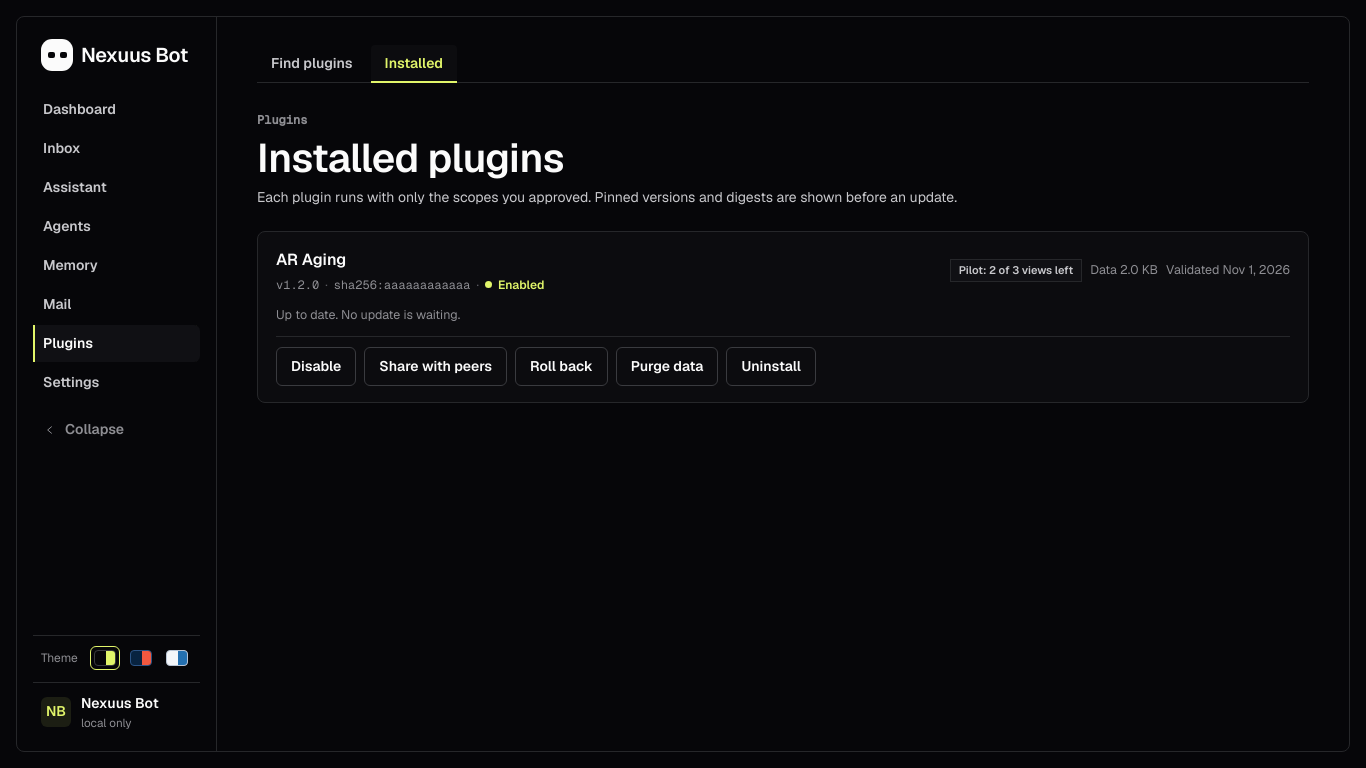
it: installed plugins › requires the typed delete-data confirmation before purging
Expected: the heading "AR Aging" is shown, [276,249,346,270]
Click the button "Purge data".
click(667, 367)  # box [616,347,718,386]
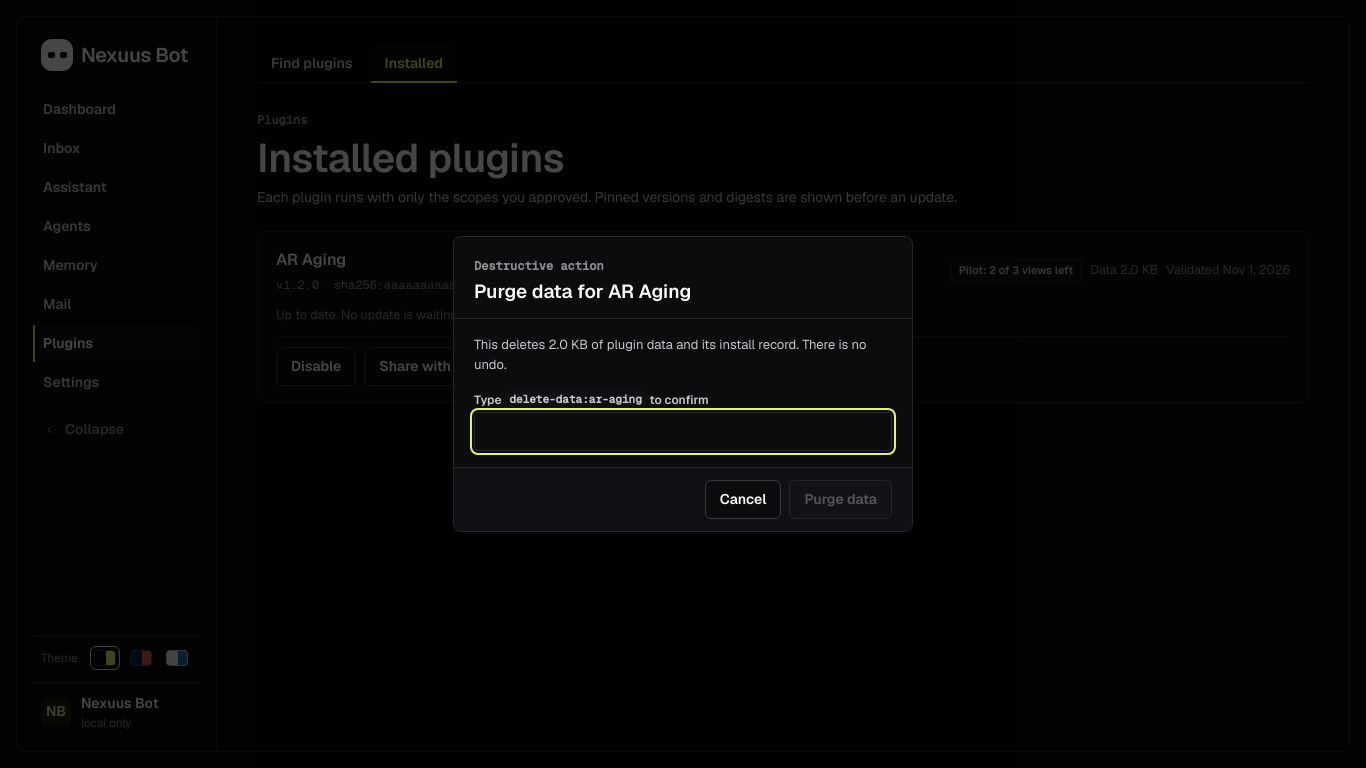
Expected: the button "Purge data" is disabled, [789,480,892,519]
Type "delete-data:ar-agin" into the field labelled "Type delete-data:ar-aging to confirm".
click(683, 432); type("delete-data:ar-agin")  # box [474,412,892,451]
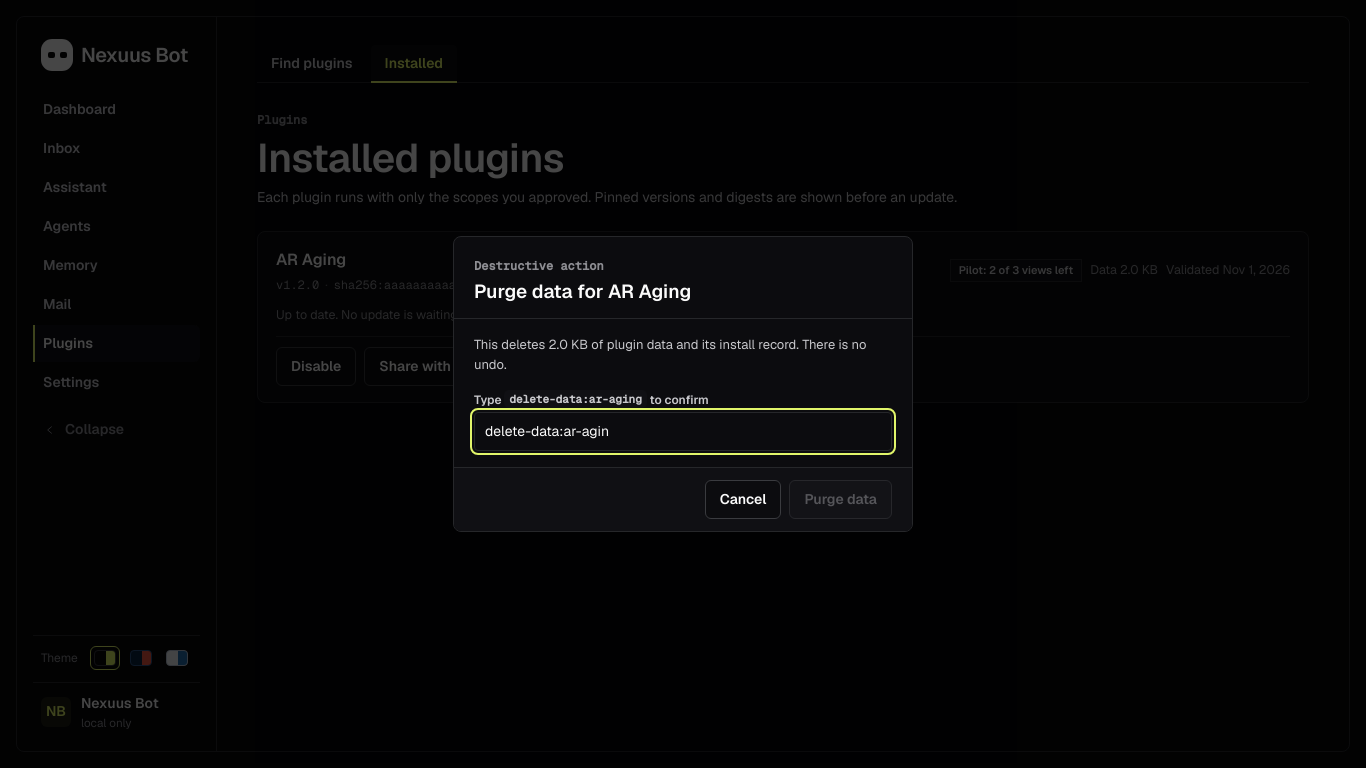
Expected: the button "Purge data" is disabled, [789,480,892,519]
Type "g" into the field labelled "Type delete-data:ar-aging to confirm".
click(683, 432); type("g")  # box [474,412,892,451]
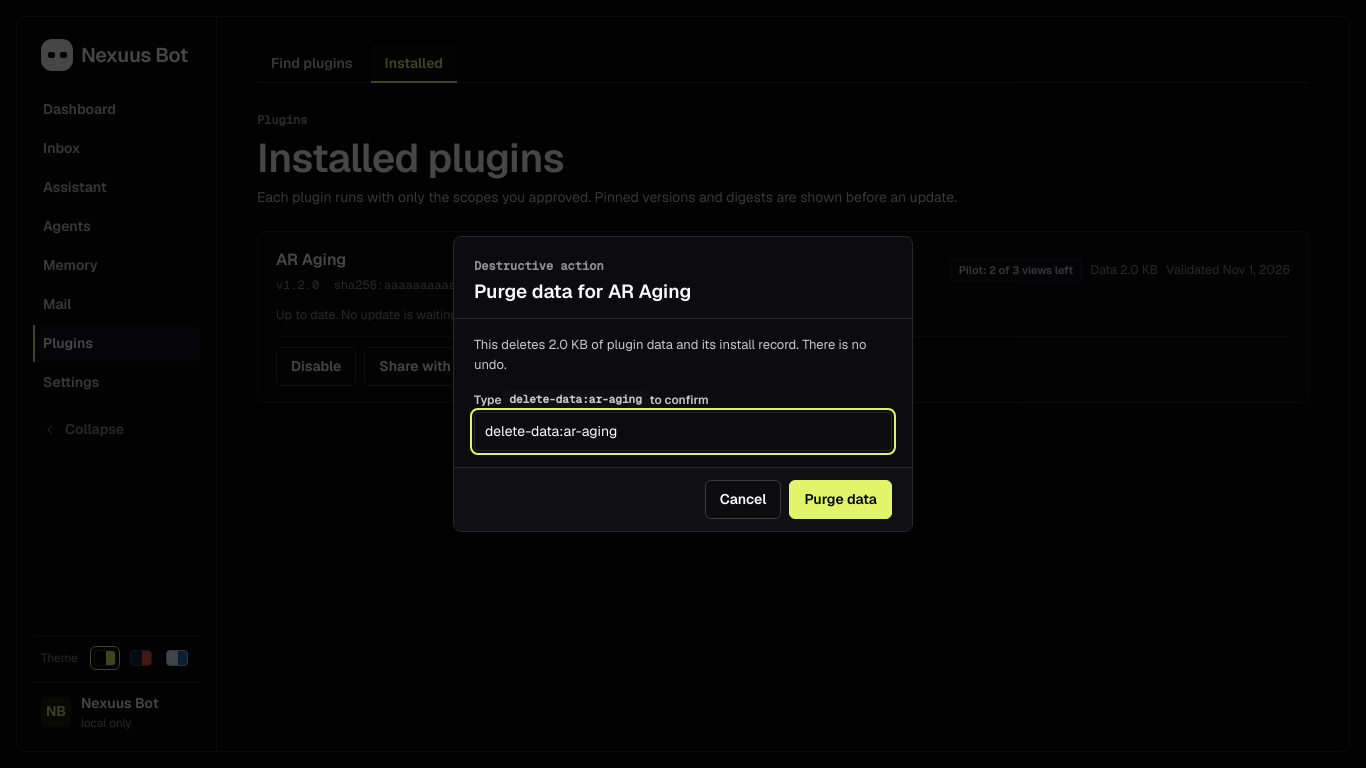
Expected: the button "Purge data" is enabled
Click the button "Purge data".
click(841, 500)  # box [789,480,892,519]
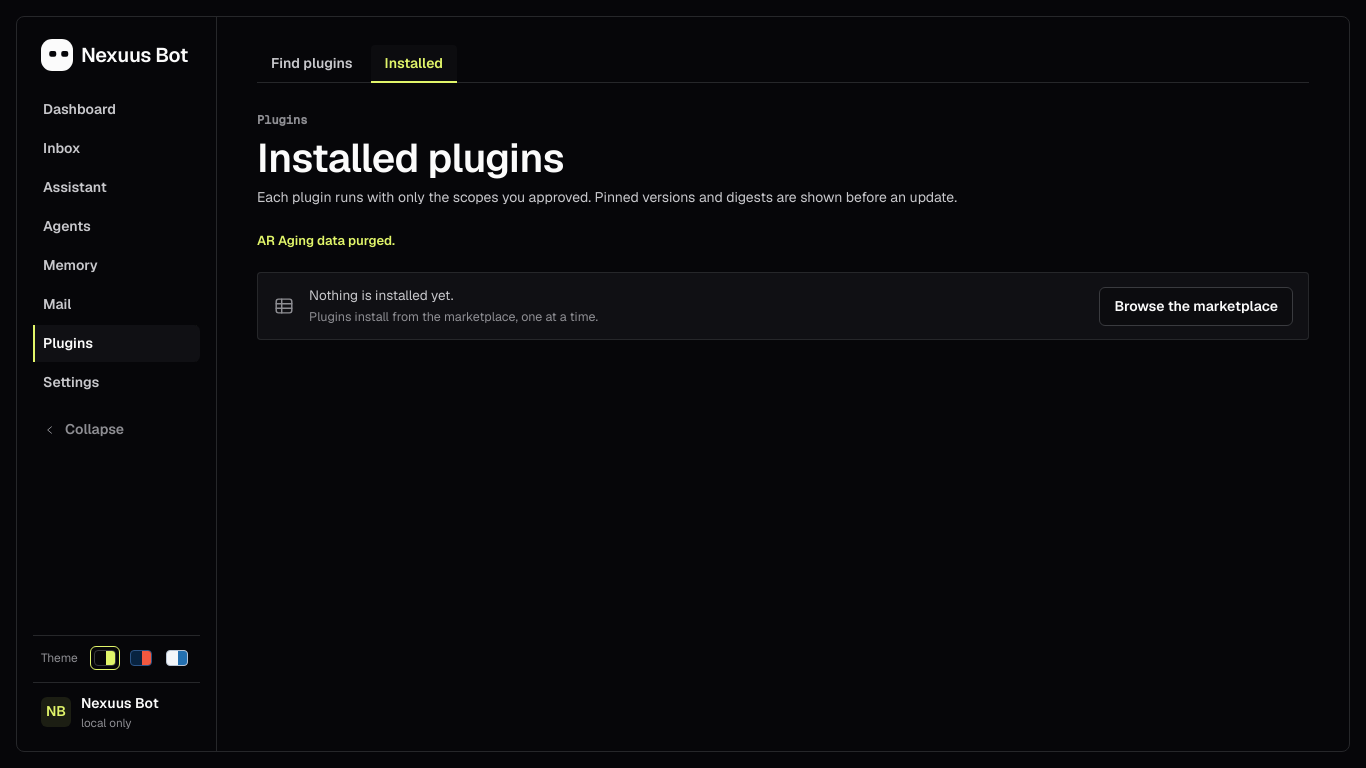
Expected: the text "AR Aging data purged." is shown, [257,232,395,249]
Expected: the text "Nothing is installed yet." is shown, [309,286,454,304]
